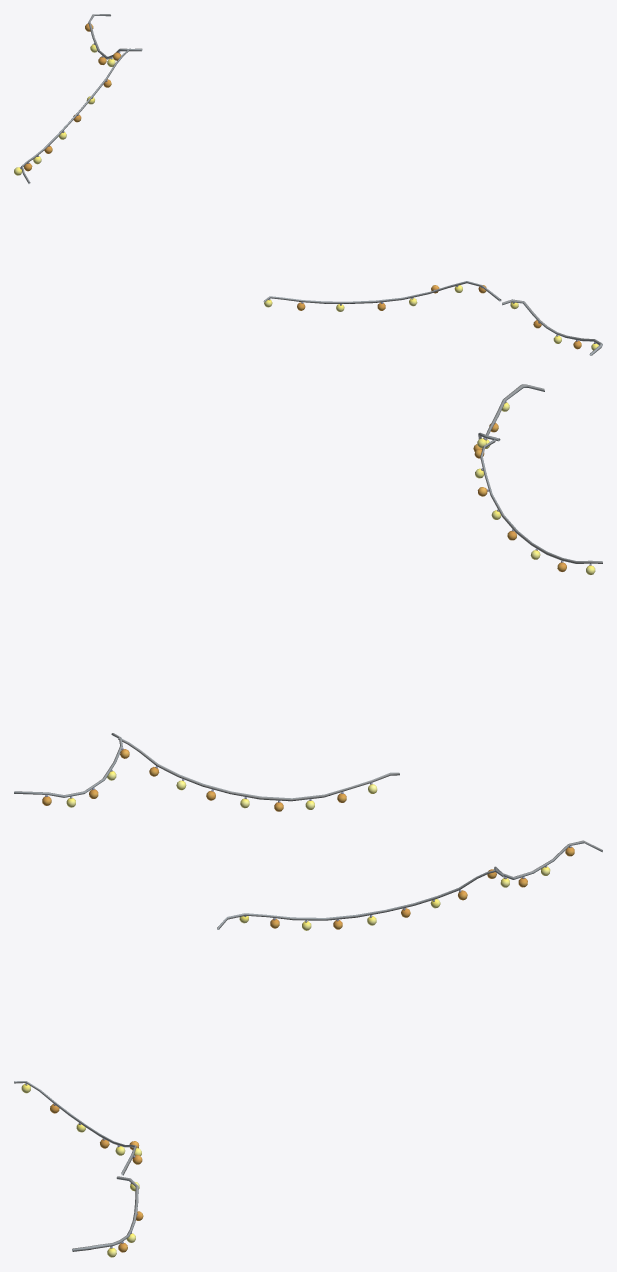
File: pref_sm_beach_winter_lightflag_e_lv3.fbx
3 views of the same model, one above another, from view 1: azimuth 30°, elevation 25°; view 2: azimuth 150°, elevation 25°; view 3: azimuth 330°, elevation 25° (orthographic). The views are drawn at different scales.
Visible parts, largest first — view 1: pref_sm_beach_winter_lightflag_e_lv3; view 2: pref_sm_beach_winter_lightflag_e_lv3; view 3: pref_sm_beach_winter_lightflag_e_lv3.
Part boxes in pixels (left/top/right/bottom): pref_sm_beach_winter_lightflag_e_lv3: left=14, top=14, right=602, bottom=355; pref_sm_beach_winter_lightflag_e_lv3: left=14, top=384, right=602, bottom=811; pref_sm_beach_winter_lightflag_e_lv3: left=14, top=840, right=602, bottom=1257.
Bounding box in the file's own units: 6.16 × 1.49 × 20.77.
